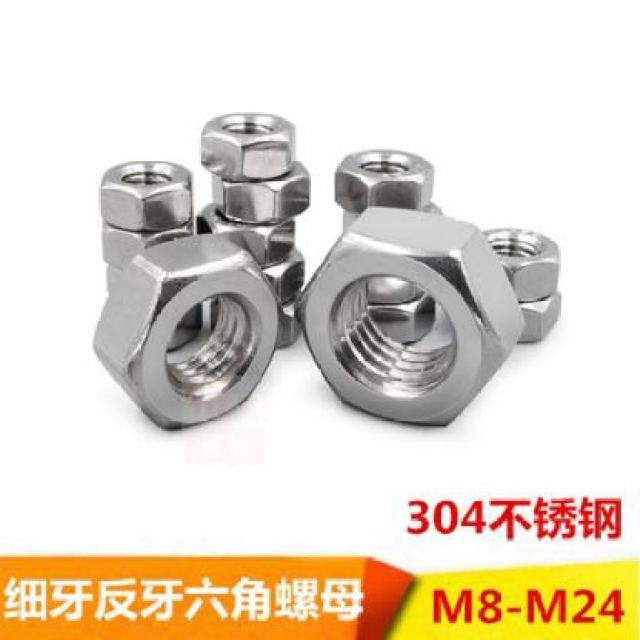Nut: (293, 206, 529, 428), (94, 232, 284, 430), (100, 156, 196, 232), (335, 148, 436, 215), (200, 110, 296, 180), (200, 203, 298, 269), (211, 162, 313, 225), (484, 227, 562, 304), (102, 223, 194, 269), (261, 251, 306, 301)
